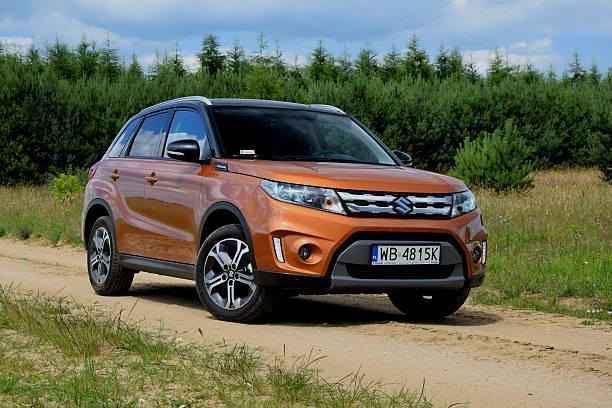suzuki: (388, 193, 420, 218)
